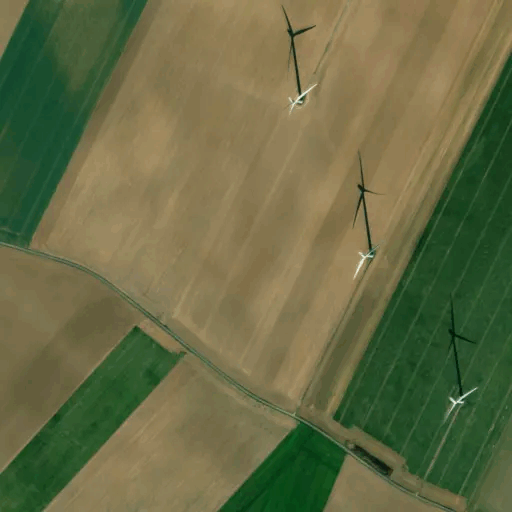wt: (343, 139, 385, 287), (436, 288, 477, 428), (275, 1, 321, 121)
